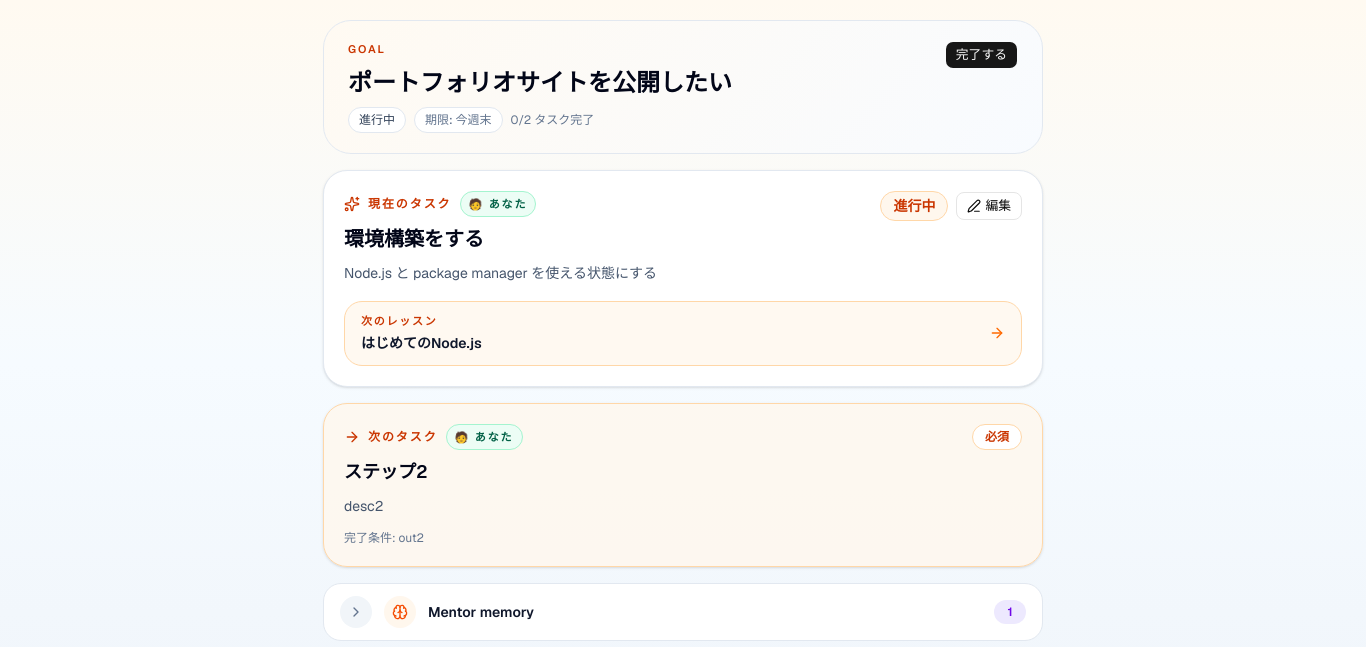
Test: MentorWorkspaceView › cancels inline editing on Escape
Click the button with test id "mentor-workspace-edit-task". click: (989,206)
box: [956,192,1022,220]
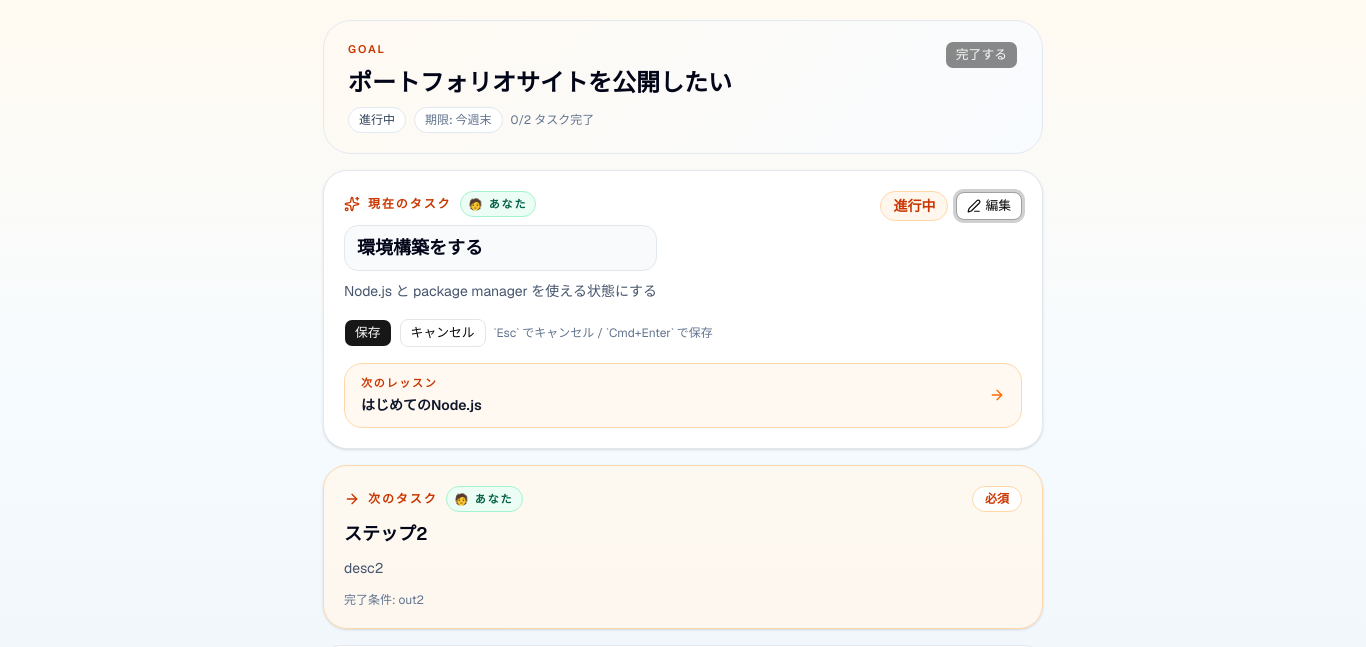
Clear the field named "タスクタイトル". click: (501,248)
box: [344,224,657,270]
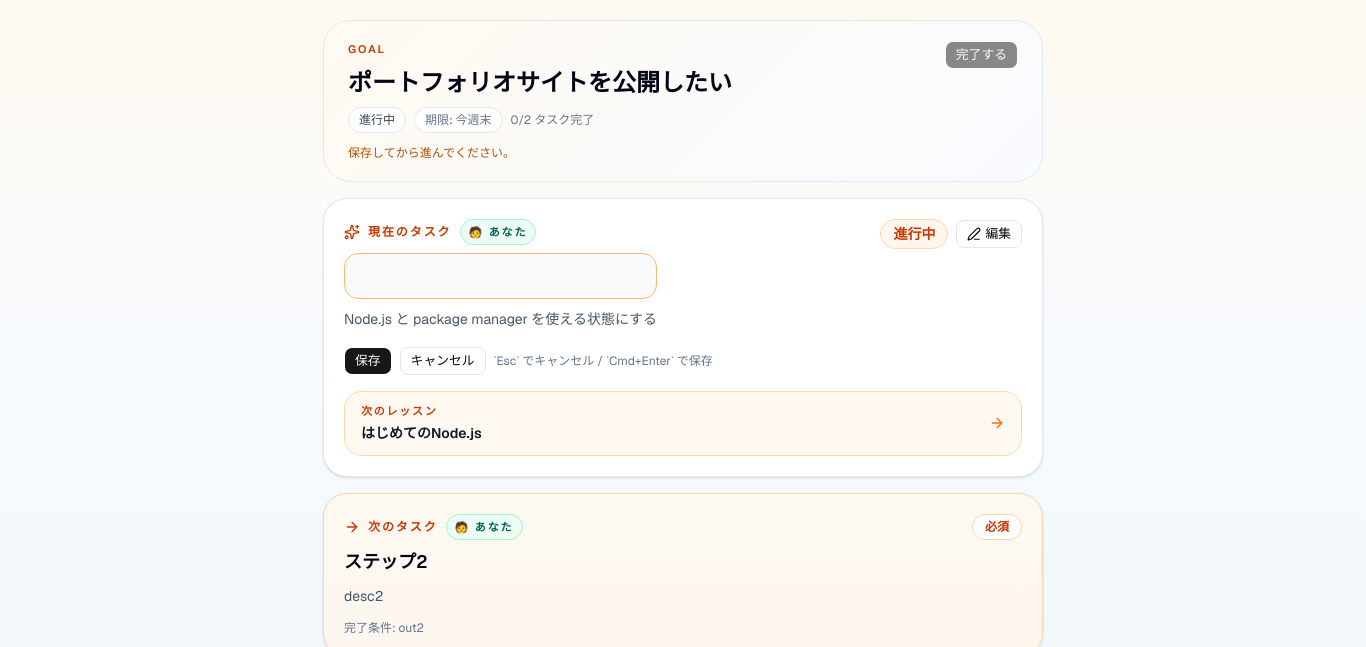
Type "別のタスク" into the field named "タスクタイトル". click: (501,276)
box: [344,252,657,298]
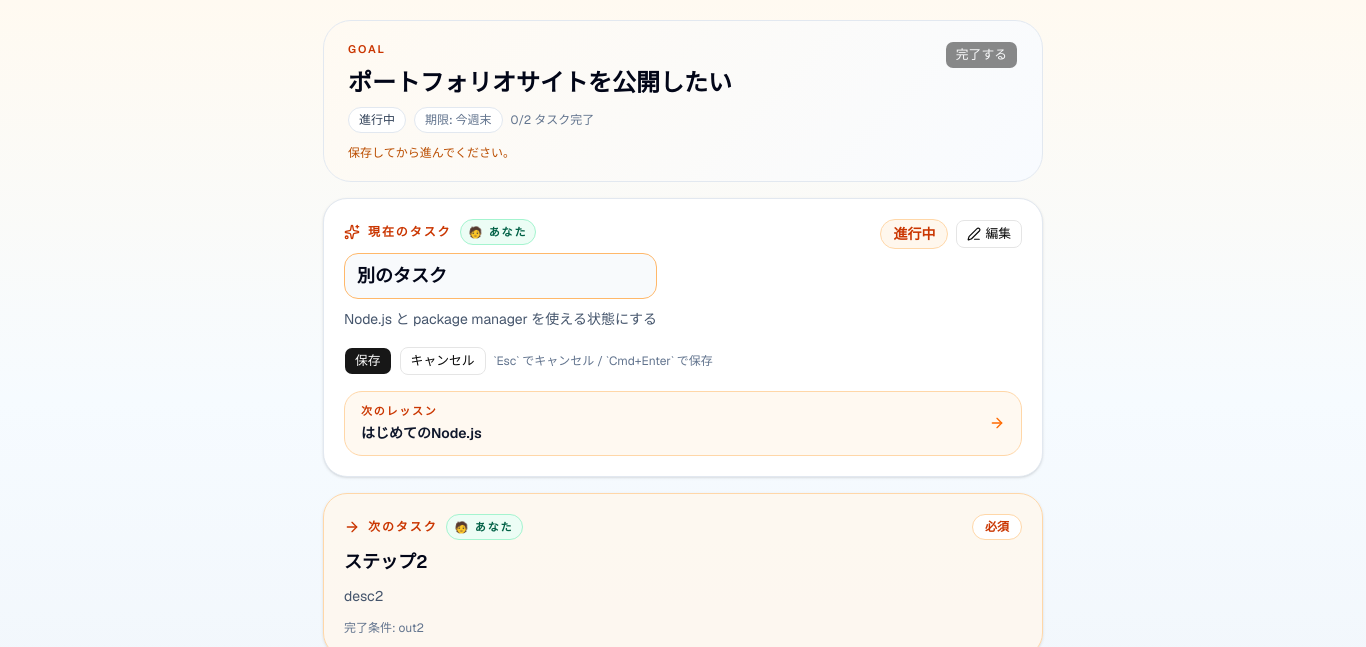
Press Escape in the field named "タスクタイトル", box [344,252,657,298]
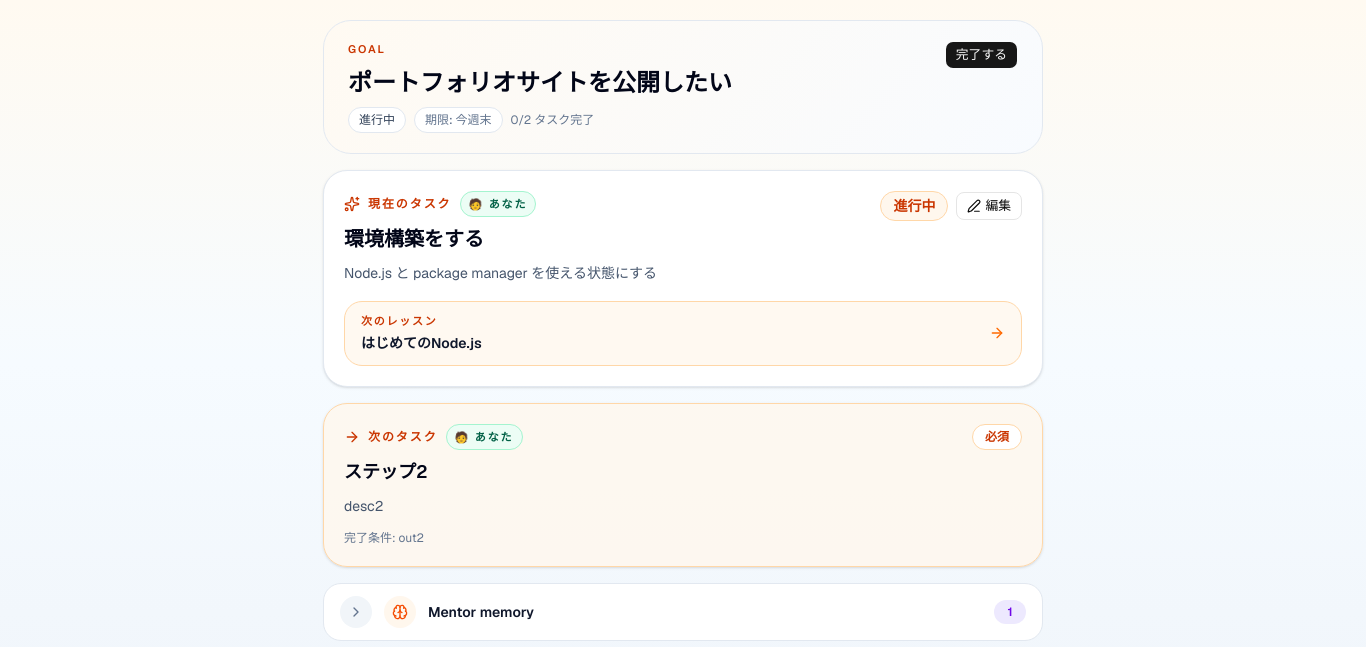
Result: the field labelled "タスクタイトル" is gone
Result: the heading "環境構築をする" is shown at [344,226,484,252]
